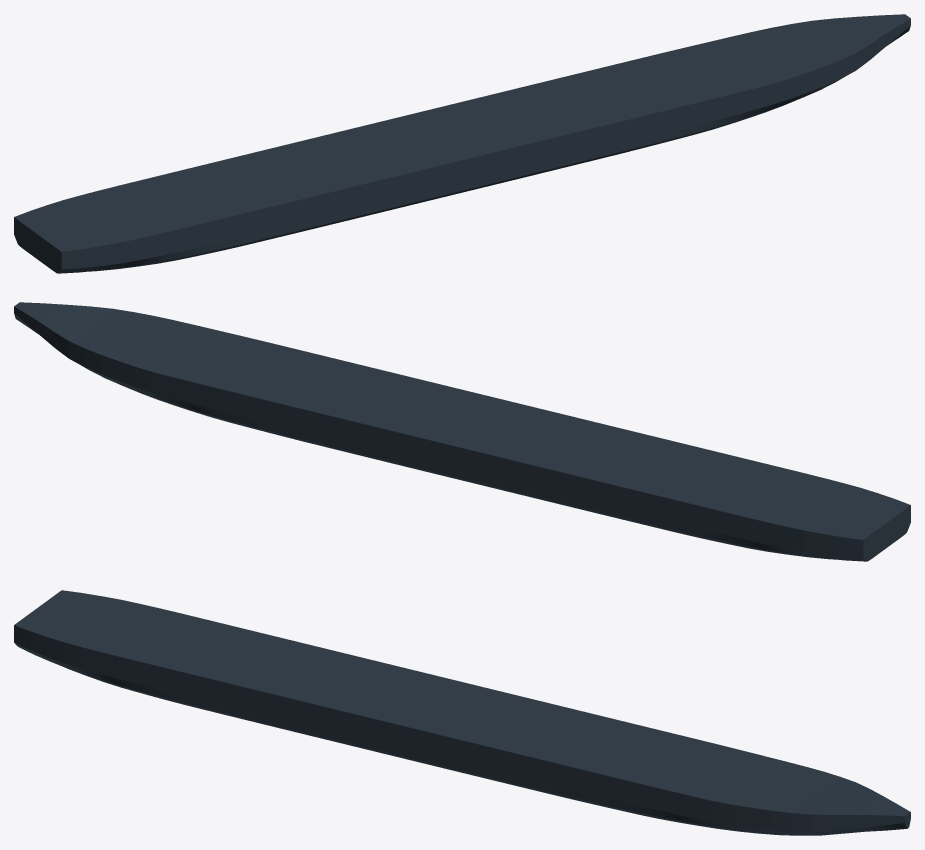
File: hull.glb
The picture shows the model from 3 angles, top to bottom: view 1: azimuth 30°, elevation 25°; view 2: azimuth 150°, elevation 25°; view 3: azimuth 330°, elevation 25°; orthographic projection.
Parts seen in each view (by area): view 1: hull; view 2: hull; view 3: hull.
Boxes of the visible parts, box(x1,y1,x2,y2) form: hull: box(14, 14, 910, 273); hull: box(14, 302, 910, 561); hull: box(14, 590, 910, 835).
Size of the model in its own units: 141 by 6.4 by 16.8.
